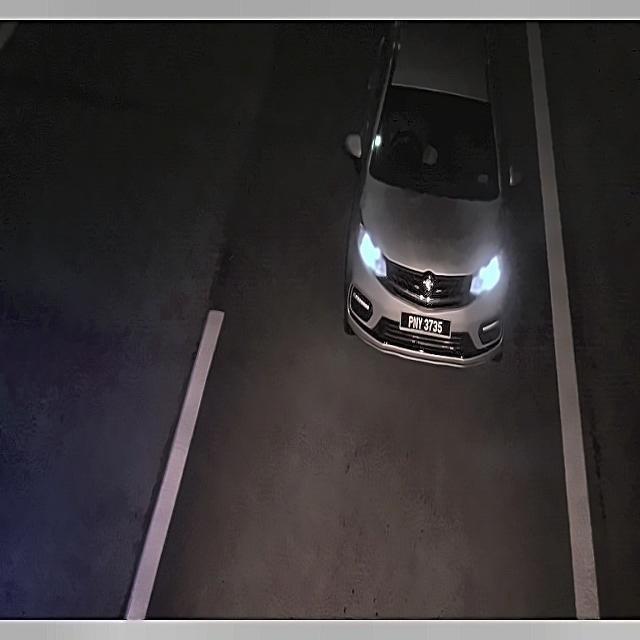car: (401, 303, 453, 342)
